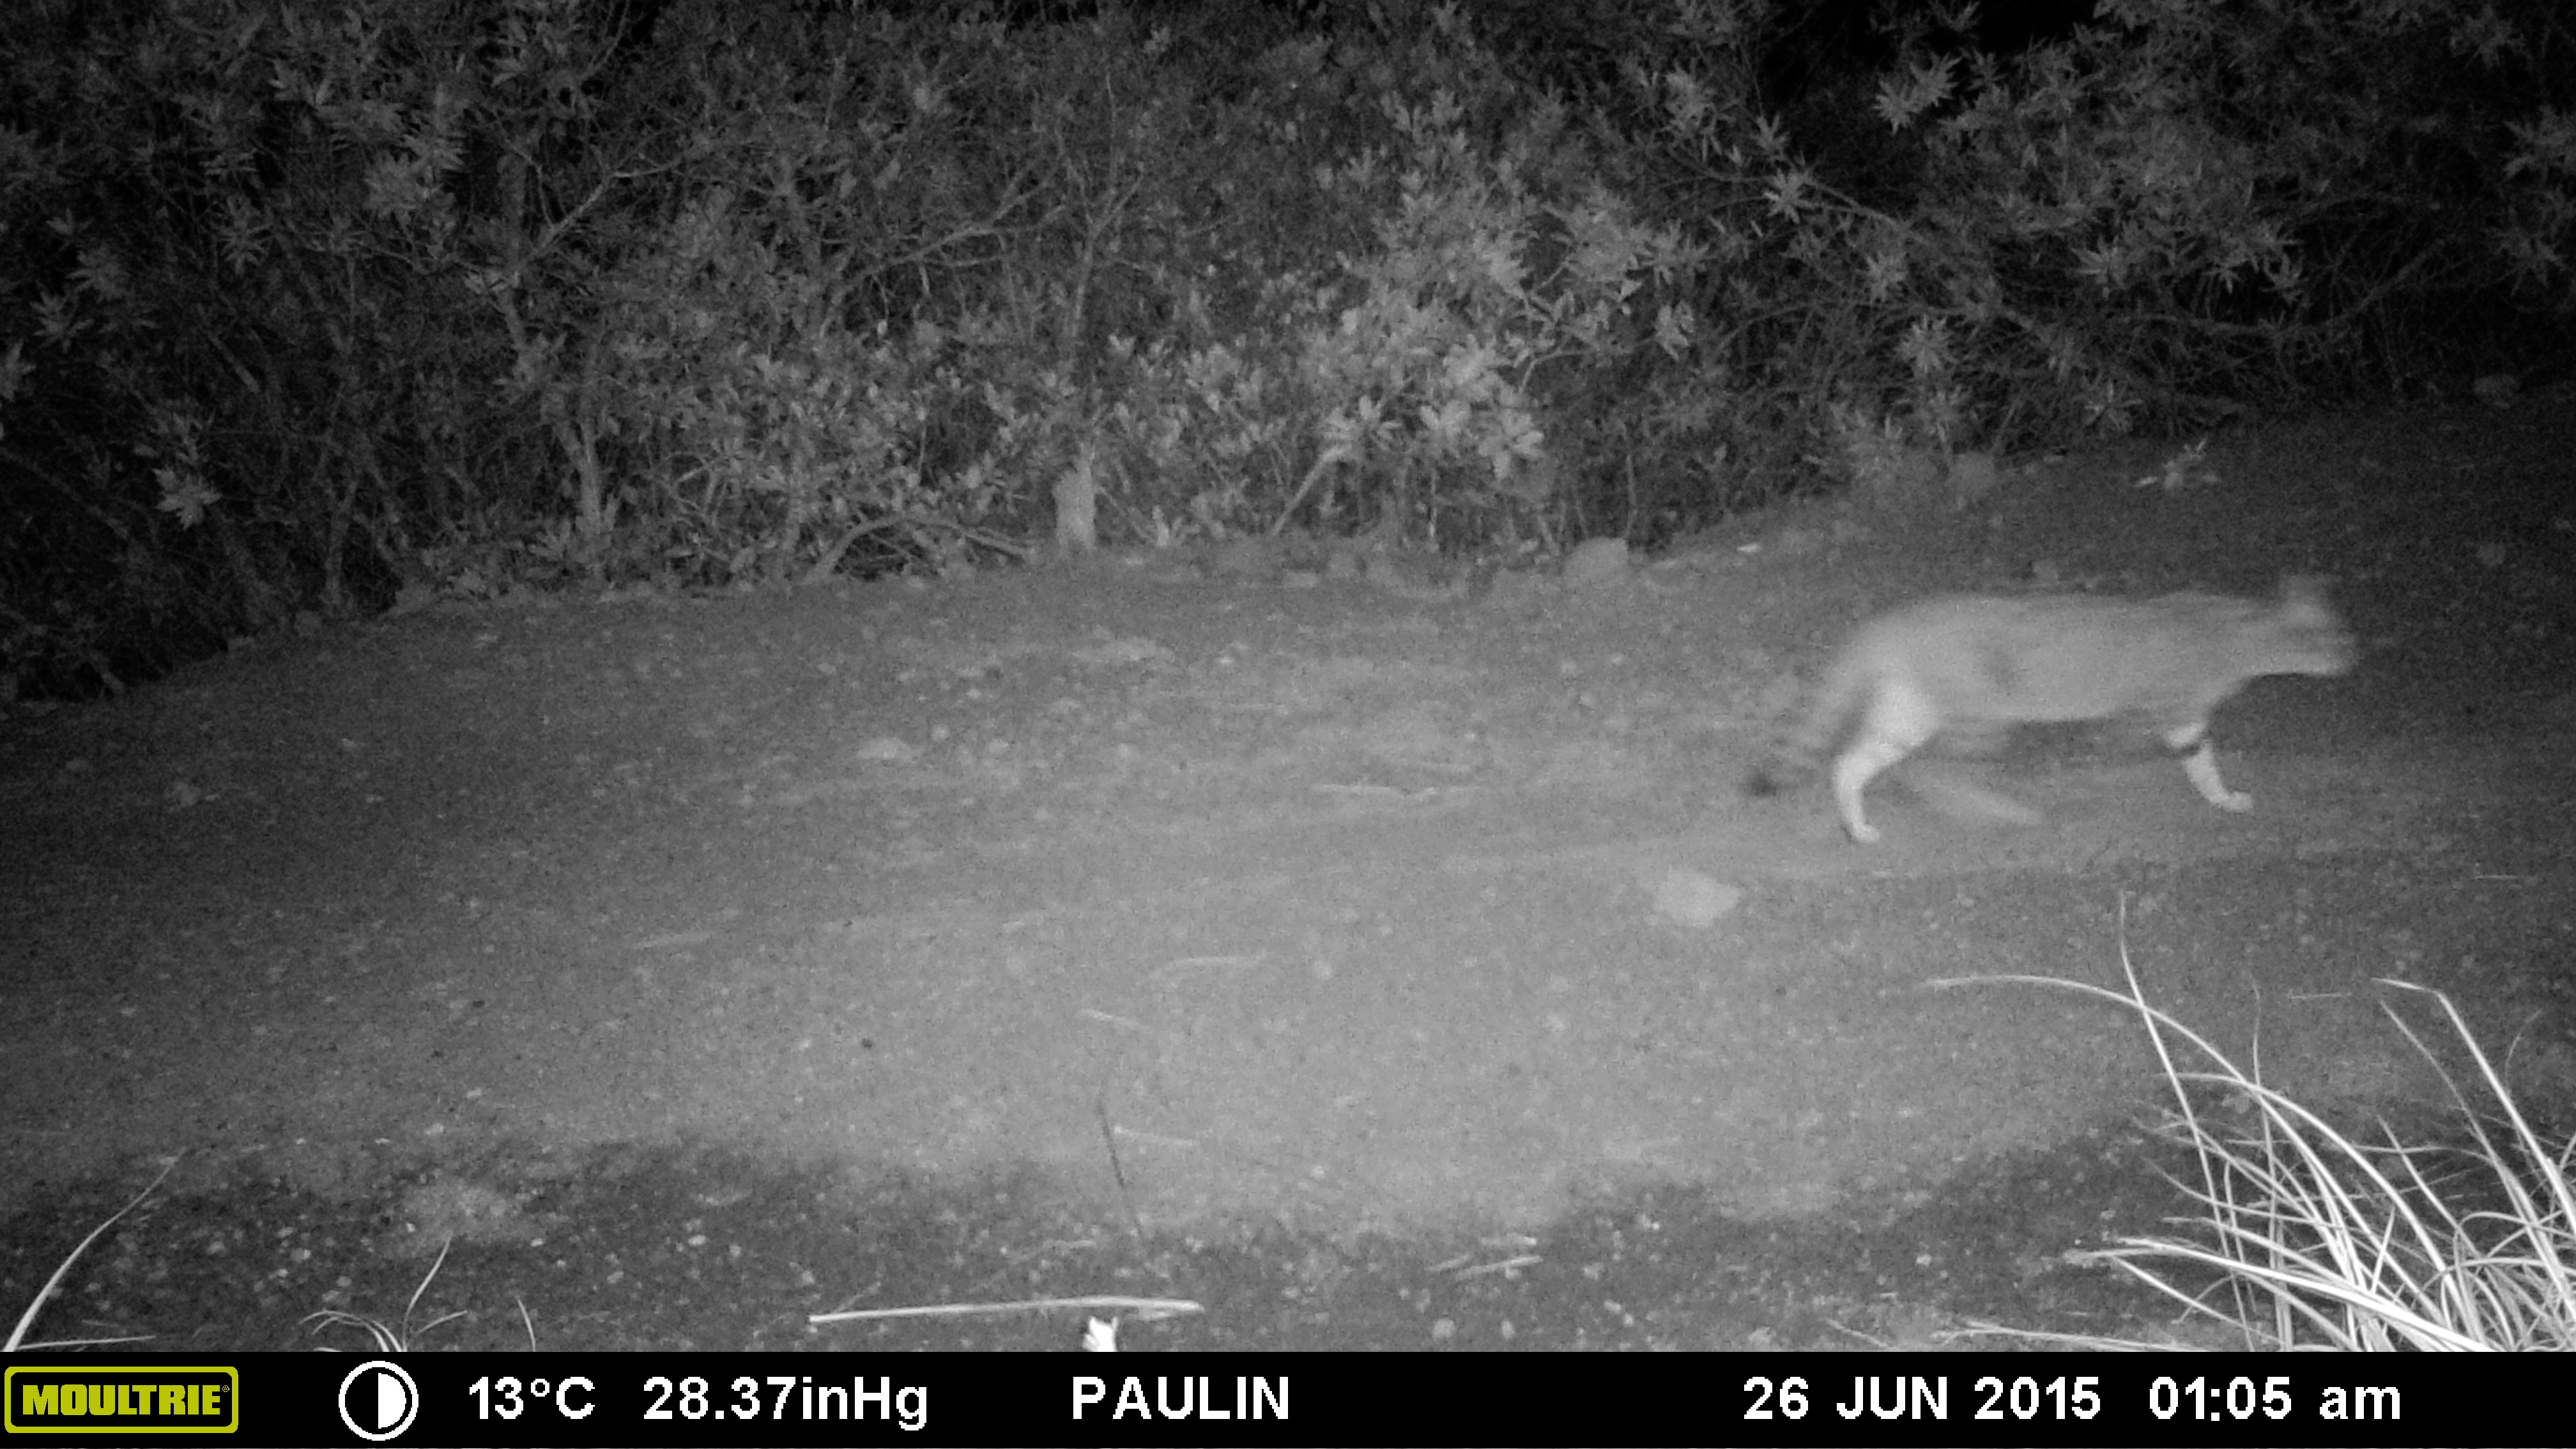cat: (1750, 570, 2385, 858)
